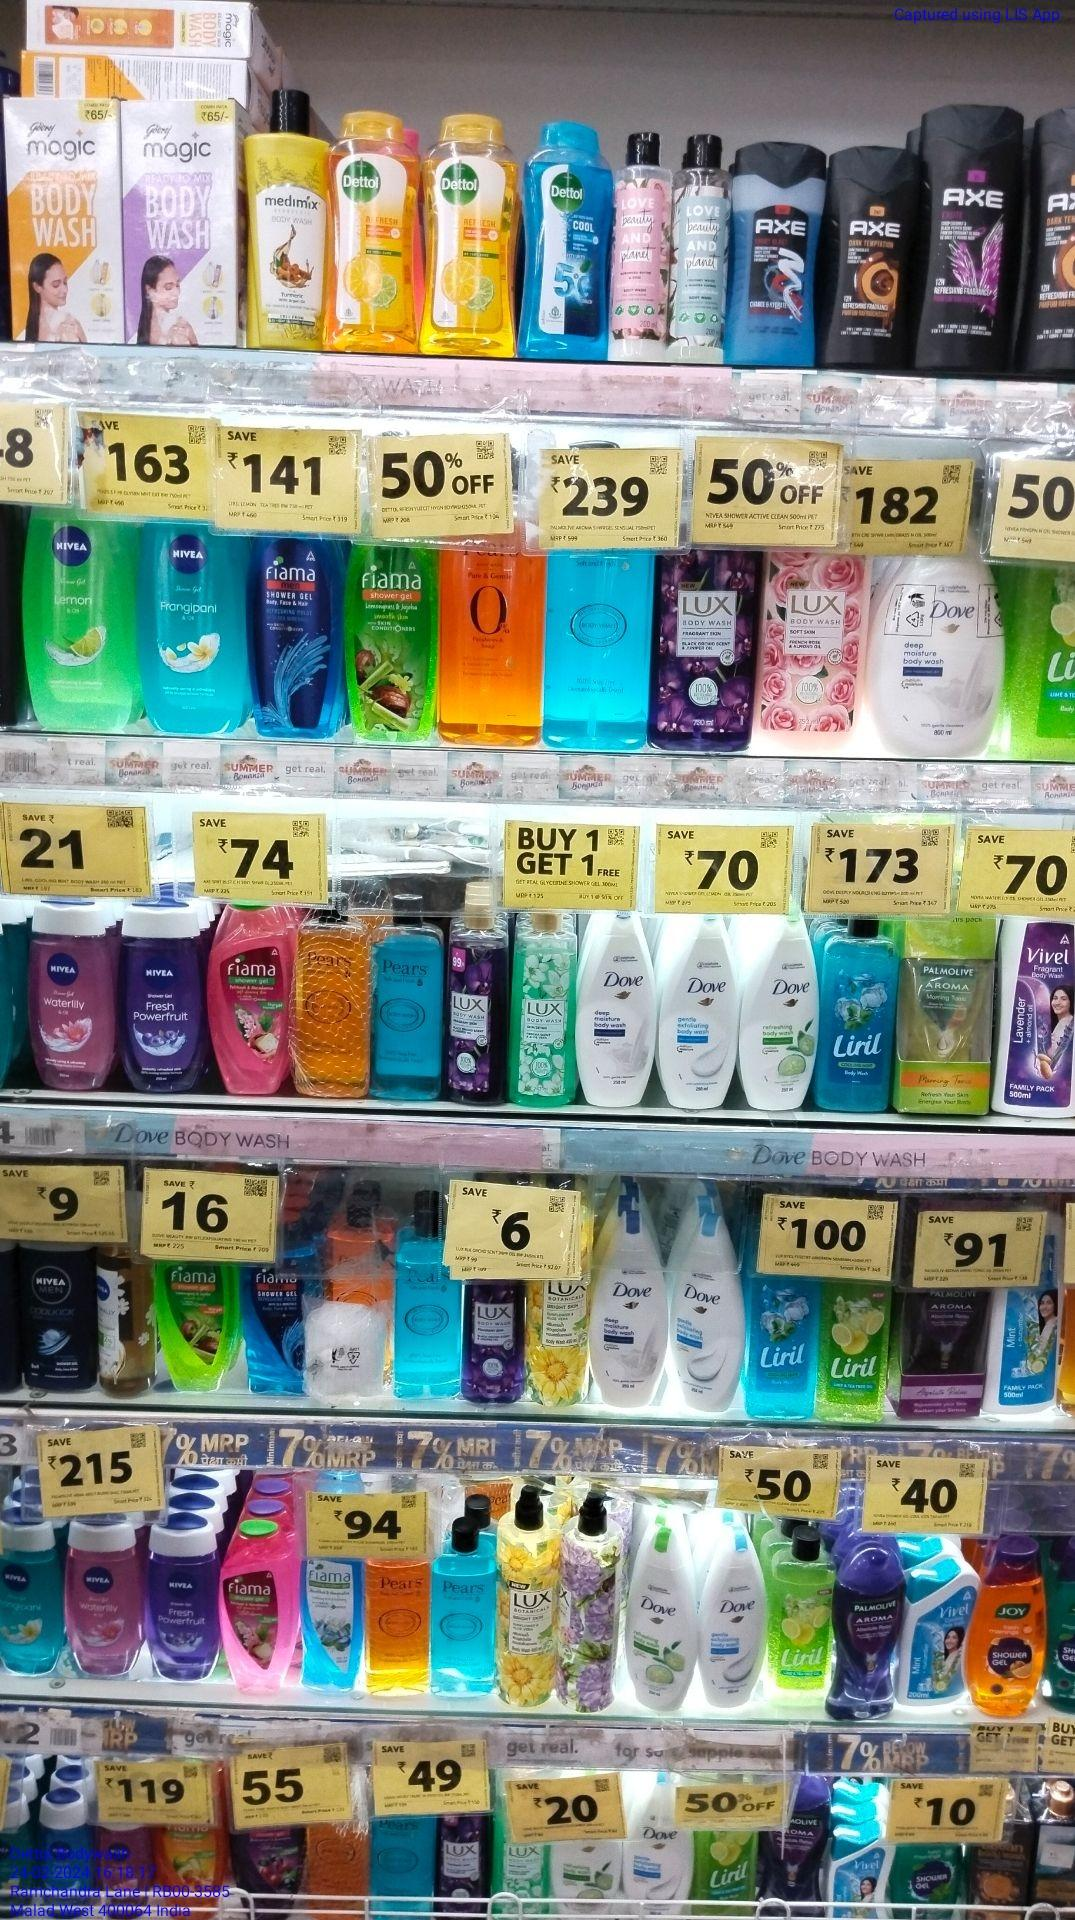Dettol_Bodywash_Cool: (520, 115, 611, 355)
Dettol_Bodywash_Refresh: (327, 103, 417, 355), (427, 109, 516, 356)
Dove_Deep_Moisture_Body_Wash_250ML: (588, 1216, 666, 1410), (587, 919, 657, 1108)
Dove_Gentle_Exfoliating_Body_Wash_250ML: (673, 1220, 744, 1419), (663, 914, 735, 1108), (699, 1544, 765, 1701), (625, 1774, 679, 1916)
Dove_Refreshing_Body_Wash_250ML: (740, 910, 814, 1108), (625, 1527, 695, 1709), (551, 1834, 620, 1920)
Fiama_Shower_Gel_Patchouli_and_Macadamia_250ML: (210, 905, 288, 1089), (219, 1531, 294, 1692)
Fiama_Shower_Gel_Peach_and_Avocado_250ML: (157, 1828, 222, 1920)
Joy_Shower_Gel_Mandarin_and_Lemongrass_250ML: (967, 1536, 1042, 1721)
Joy_Shower_Gel_Mint_and_Eucalyptus_250ML: (892, 1844, 962, 1920)
Liril_Cooling_Mint_Body_Wash_250ML: (818, 922, 900, 1110), (749, 1283, 815, 1422)
Liril_Lime_and_Tea_Tree_Oil_Body_Wash_250ML: (770, 1527, 832, 1691), (822, 1283, 886, 1428), (694, 1828, 756, 1920)
Lux_Black_Orchid_Scent_and_Juniper_Oil_Body_Wash_245ML: (450, 920, 501, 1105), (441, 1815, 484, 1920)
Lux_Body_Wash_Skin_Detox_Freesia_Scent_and_Alove_Vera_245ML: (510, 913, 576, 1112), (493, 1836, 543, 1919)
Nivea_Shower_Gel_Frangipani_and_Oil_250ML: (140, 525, 248, 735), (0, 1510, 58, 1675)
Nivea_Shower_Gel_Fresh_Powerfruit_250ML: (123, 906, 200, 1093), (141, 1526, 215, 1684)
Nivea_Shower_Gel_Lemon_and_Oil_250ML: (22, 506, 128, 732)
Nivea_Shower_Gel_Waterlily_and_Oil_250ML: (26, 907, 116, 1091), (63, 1524, 138, 1680)
Palmolive_Aroma_Relax_250ML: (839, 1542, 901, 1720)
Pears_Pure_Glycerin_and_Mint_Extracts_Body_Wash_250ML: (372, 910, 445, 1100), (392, 1212, 460, 1398), (435, 1522, 493, 1696), (373, 1815, 437, 1916)
